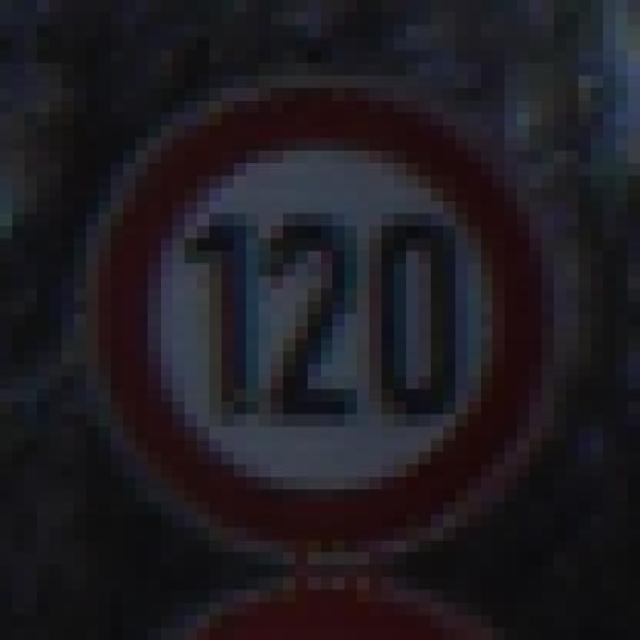forb_speed_over_120: (90, 78, 556, 557)
